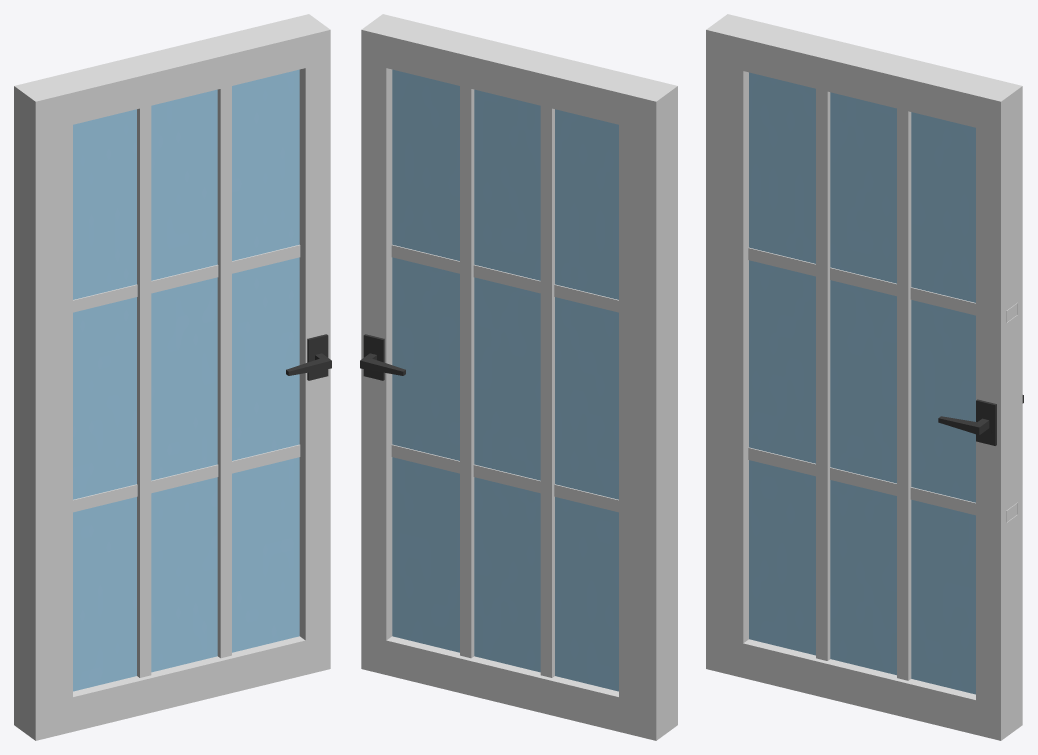
The model's file is door_013.fbx.
The picture shows the model from 3 angles, left to right: view 1: azimuth 30°, elevation 25°; view 2: azimuth 150°, elevation 25°; view 3: azimuth 330°, elevation 25°; orthographic projection.
Visible parts, largest first — view 1: door_013; view 2: door_013; view 3: door_013.
Part boxes in pixels (left/top/right/bottom): door_013: left=14, top=14, right=331, bottom=740; door_013: left=360, top=14, right=677, bottom=740; door_013: left=706, top=14, right=1023, bottom=740.
Size of the model in its own units: 110 by 28.59 by 227.
